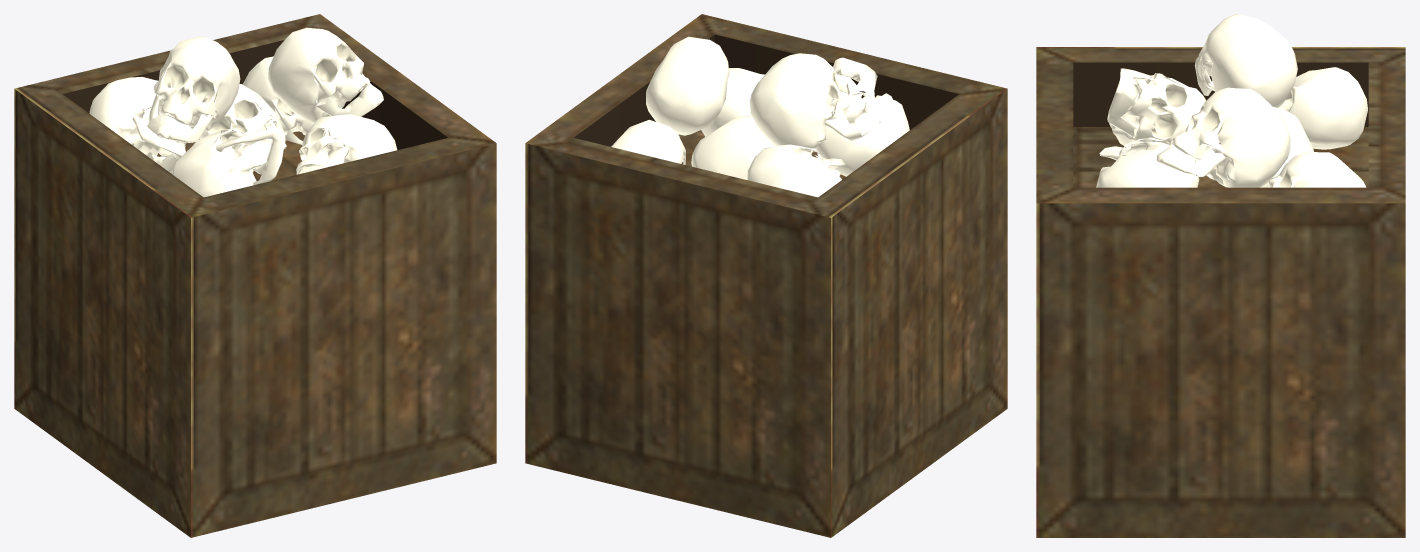
Rendered from CrateSkulls02.glb.
3 views of the same model, side by side, from view 1: azimuth 30°, elevation 25°; view 2: azimuth 150°, elevation 25°; view 3: azimuth 270°, elevation 25° (orthographic). The views are drawn at different scales.
Parts seen in each view (by area): view 1: CrateSkulls02; view 2: CrateSkulls02; view 3: CrateSkulls02.
Part boxes in pixels (x1,y1,x2,y2): CrateSkulls02: (14,14,496,537); CrateSkulls02: (525,14,1007,537); CrateSkulls02: (1036,14,1405,537).
Size of what is drawn, in the model's own units: 0.9043 by 1.13 by 0.9043.
Materials: 1 (1 with a texture image).
